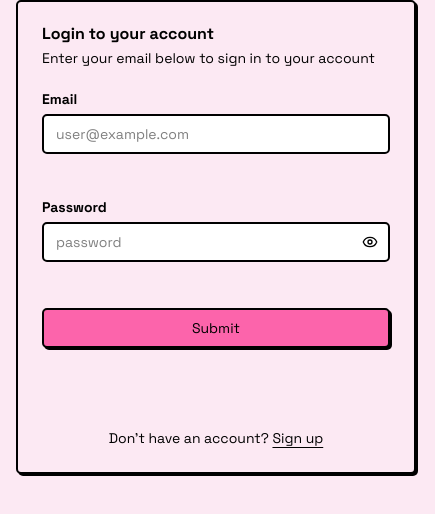
it: SignInForm › email should be properly formatted (e.g., user@example.com)
In the field with test id "email-input": [216, 134] box [42,114,390,154], type "popiqueTheCat@q.1"
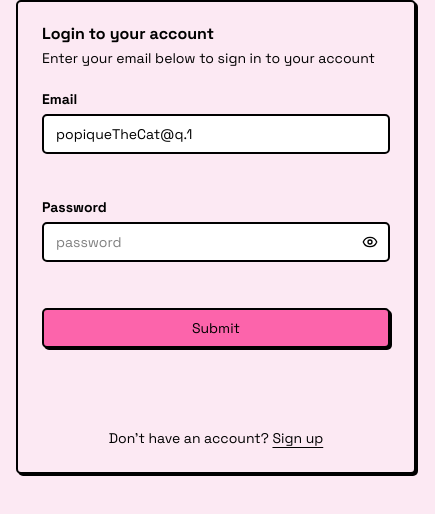
Click the button "Submit": [216, 328] box [42,308,390,348]
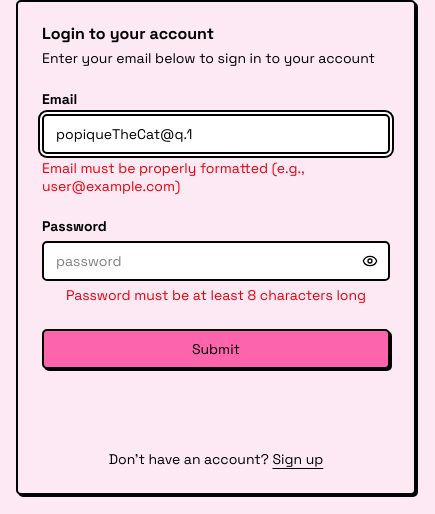
Expected: the text "Email must be properly formatted (e.g., user@example.com)" is shown, [42,159,304,194]
